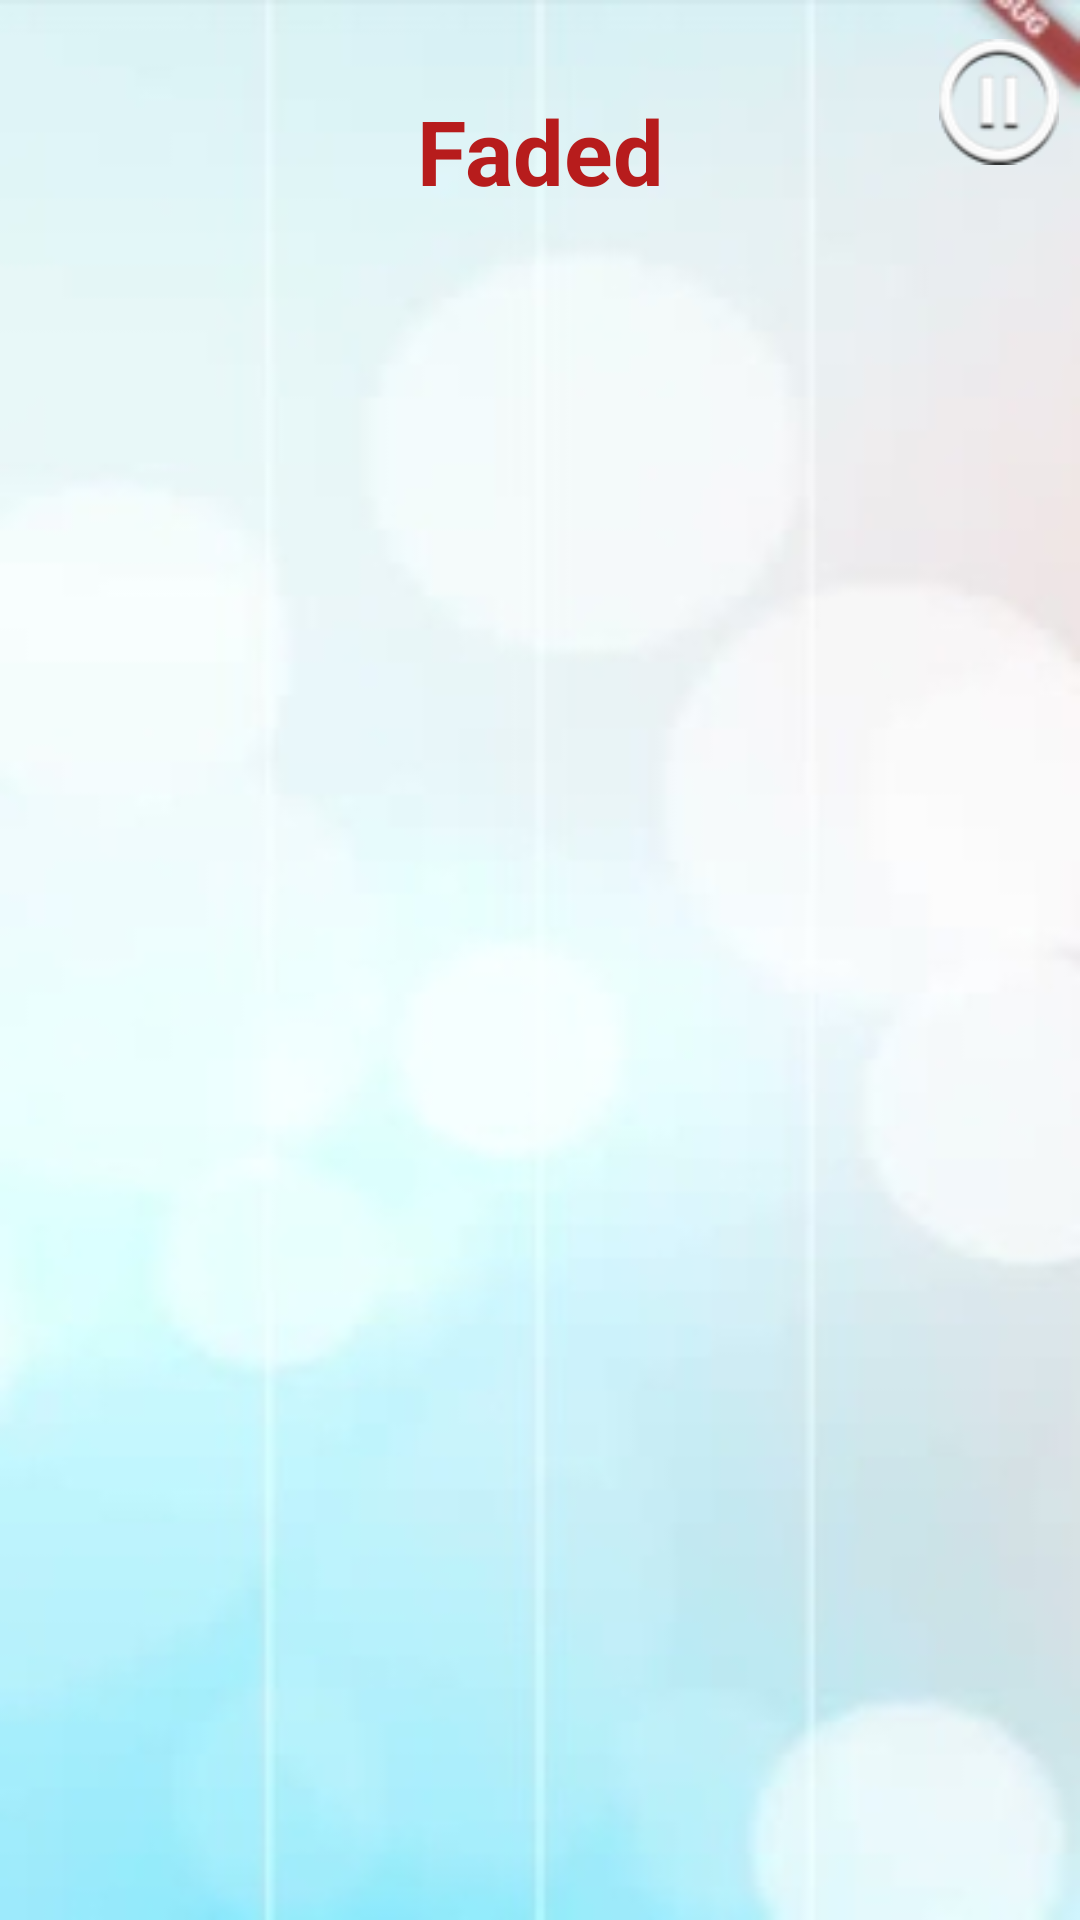

Icon click points for this 1080px×1920px phone screenshot, format point (x, y):
pause: point (999, 103)
